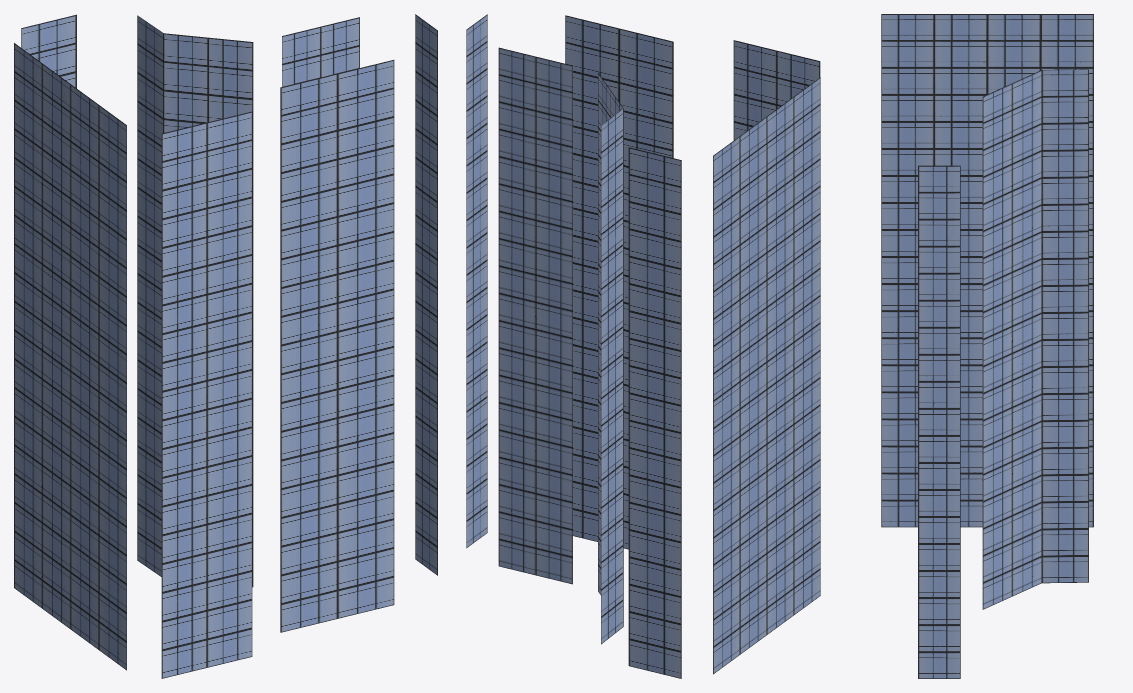
The model's file is skyscrapn203_gls.obj.
3 views of the same model, side by side, from view 1: azimuth 30°, elevation 25°; view 2: azimuth 150°, elevation 25°; view 3: azimuth 270°, elevation 25° (orthographic). The views are drawn at different scales.
Parts seen in each view (by area): view 1: skyscrapn203_gls; view 2: skyscrapn203_gls; view 3: skyscrapn203_gls.
Part boxes in pixels (box(x1,y1,x2,y2)): skyscrapn203_gls: box(14, 14, 437, 678); skyscrapn203_gls: box(466, 14, 820, 678); skyscrapn203_gls: box(881, 14, 1093, 678).
Bounding box in the file's own units: 65.3 × 103 × 48.98.
